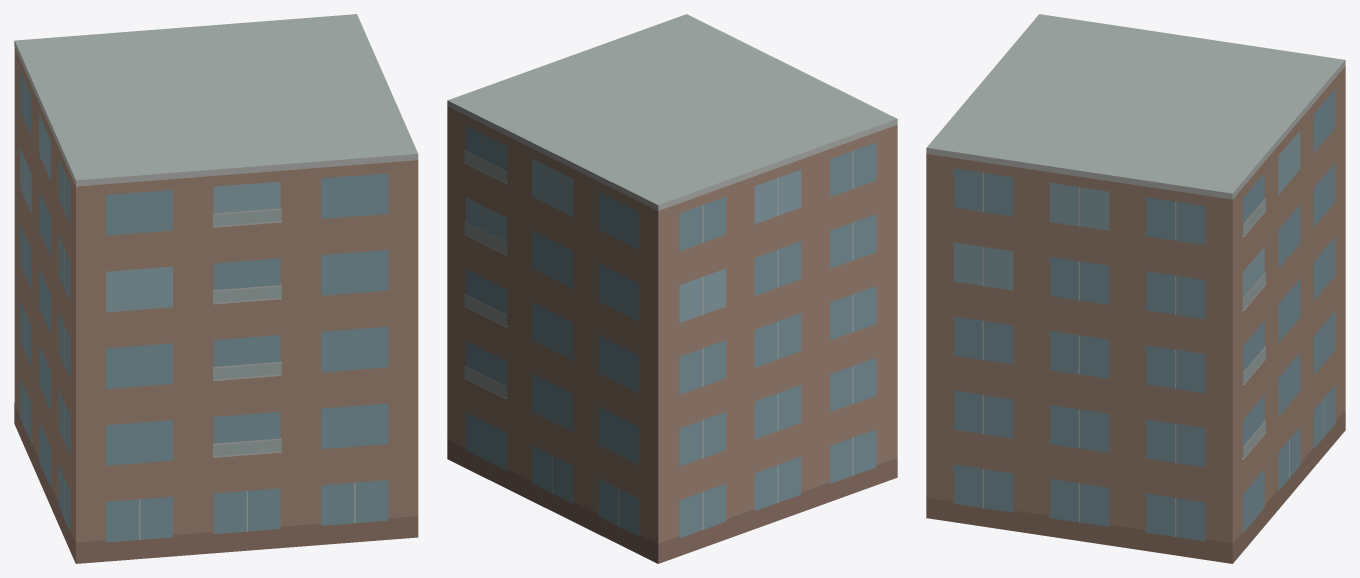
Rendered from survey-upis-32851836.glb.
3 renders of one model, left to right at view 1: azimuth 30°, elevation 25°; view 2: azimuth 150°, elevation 25°; view 3: azimuth 270°, elevation 25°, orthographic. The views are drawn at different scales.
Visible parts, largest first — view 1: survey-upis-32851836.tmp; view 2: survey-upis-32851836.tmp; view 3: survey-upis-32851836.tmp.
Part boxes in pixels (x1,y1,x2,y2): survey-upis-32851836.tmp: [14, 14, 418, 563]; survey-upis-32851836.tmp: [447, 14, 897, 563]; survey-upis-32851836.tmp: [926, 14, 1345, 563].
Size of the model in its own units: 15.62 by 15 by 15.4.
